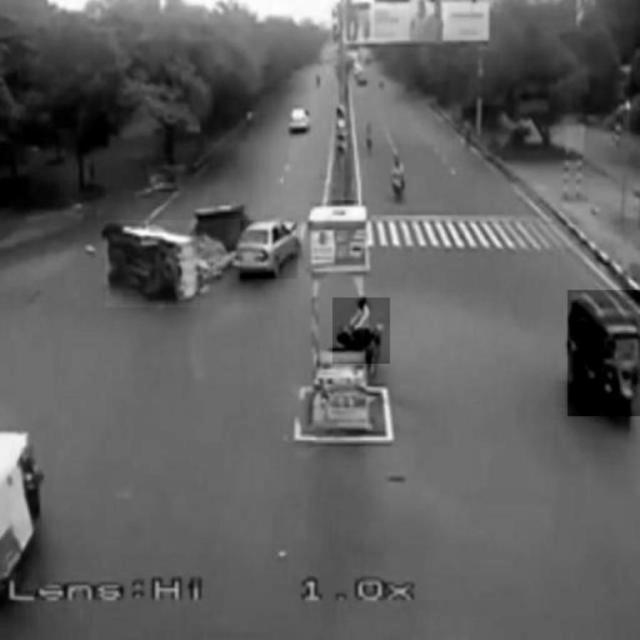vehicle: (568, 291, 640, 417), (105, 220, 197, 308), (333, 298, 390, 364), (241, 220, 298, 278)
